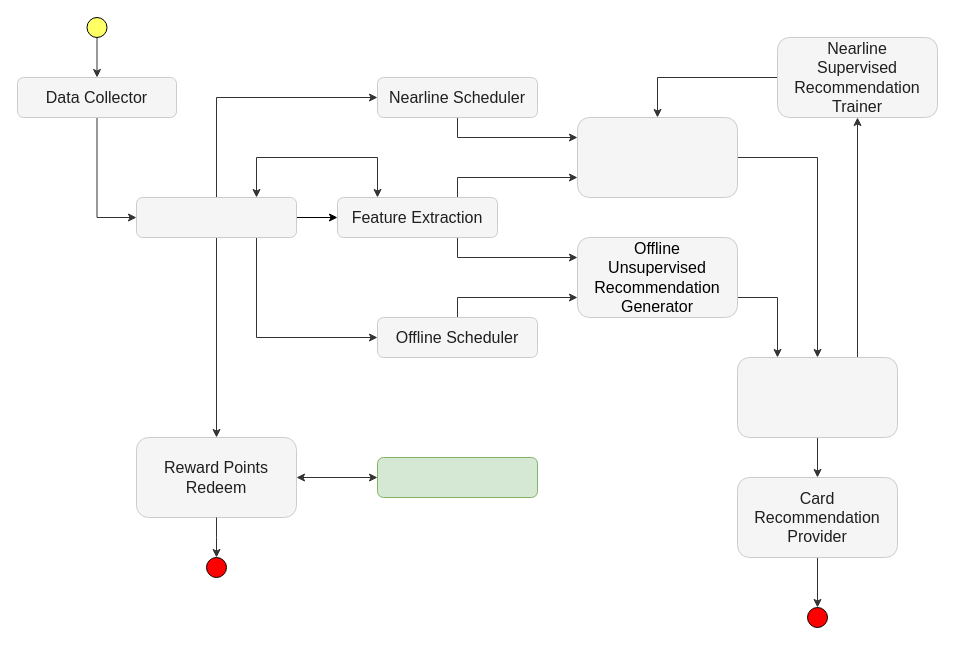
Image size: 955x645. Some labels were removed from this diagram. The shapes that lost their labels are listed below. From the top down, each one's centre as x and y in pixels, then its label:
point 657,157: Nearline Supervised Recommendation Generator
point 216,217: Data Abstraction
point 817,397: Card Recommendation Compiler
point 457,477: Reward Suggestion
